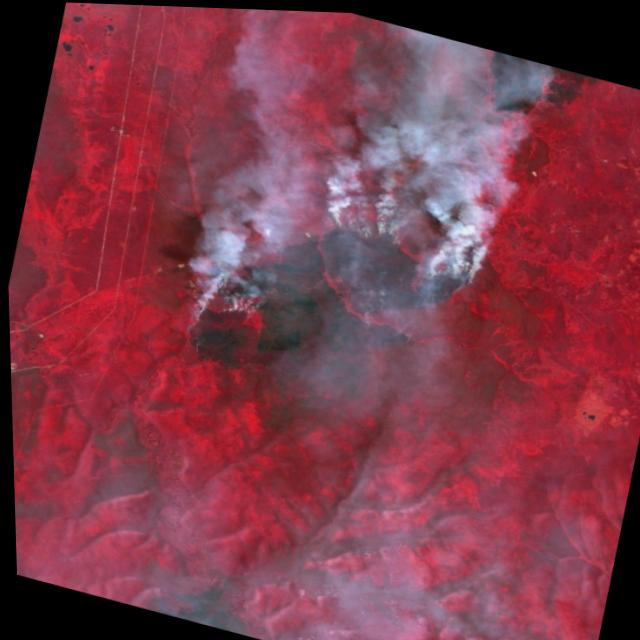fire: (291, 199, 487, 373)
